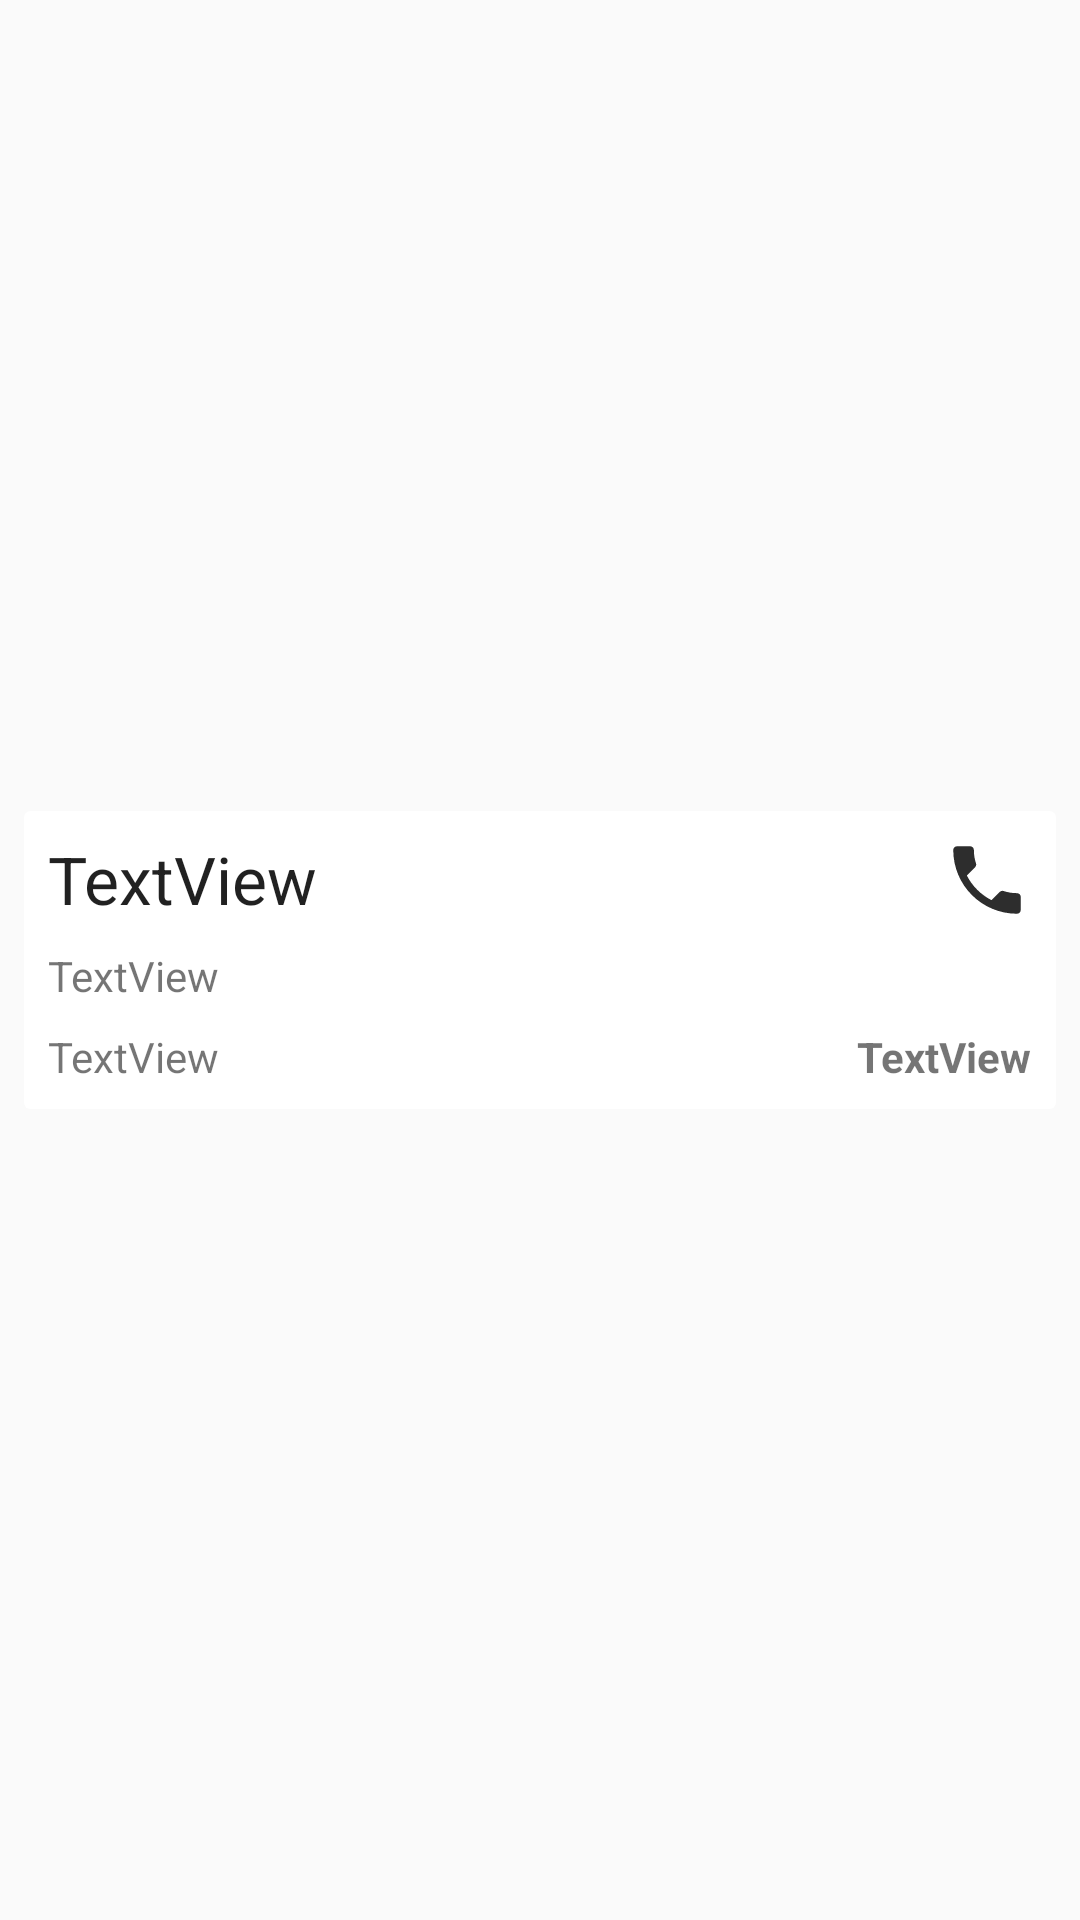

Where to tap for icons on this 1080 x 1920 app screen, as (x=x, y=y):
call: (x=987, y=880)
